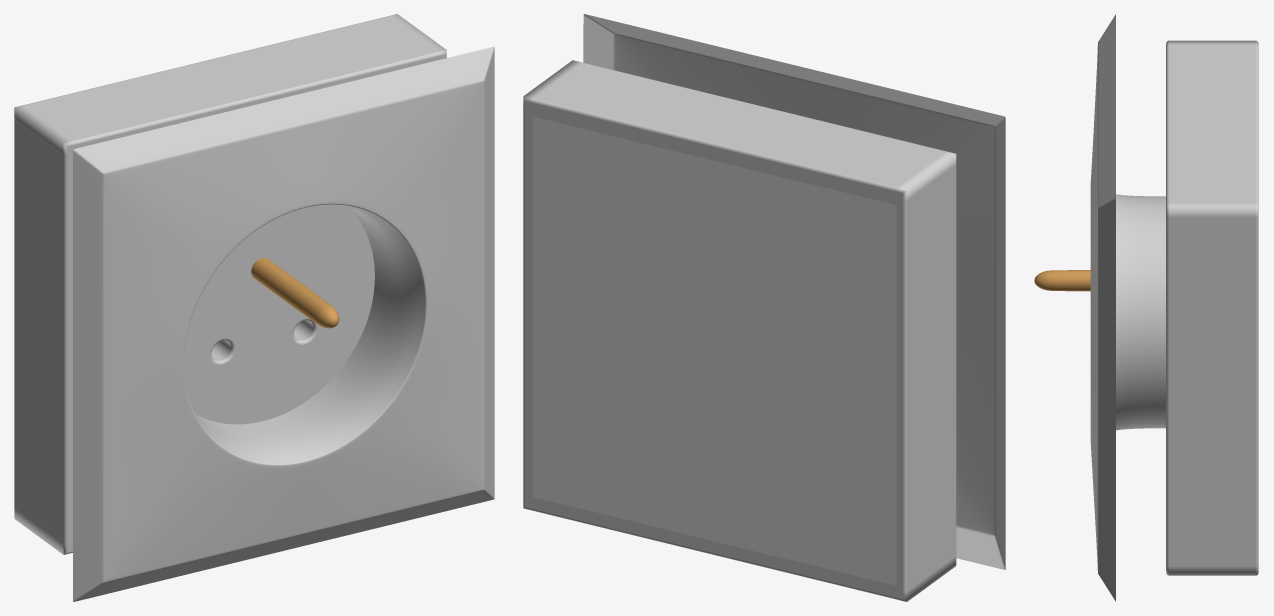
File: outlet.fbx
The picture shows the model from 3 angles, left to right: view 1: azimuth 30°, elevation 25°; view 2: azimuth 150°, elevation 25°; view 3: azimuth 270°, elevation 25°; orthographic projection. The views are drawn at different scales.
Visible parts, largest first — view 1: Circle_002, BezierCurve_000, Sphere_001; view 2: Plane_004, BezierCurve_000, Circle_002; view 3: BezierCurve_000, Circle_002, Sphere_001.
Boxes of the visible parts, bbox=[...] form: Circle_002: bbox=[73, 46, 494, 601]; BezierCurve_000: bbox=[14, 14, 446, 554]; Sphere_001: bbox=[251, 258, 339, 328]; Plane_004: bbox=[533, 116, 896, 585]; BezierCurve_000: bbox=[523, 60, 956, 601]; Circle_002: bbox=[583, 14, 1005, 569]; BezierCurve_000: bbox=[1166, 40, 1258, 575]; Circle_002: bbox=[1090, 14, 1165, 601]; Sphere_001: bbox=[1034, 270, 1090, 291].
Size of the model in its own units: 0.1227 by 0.1259 by 0.0635.
